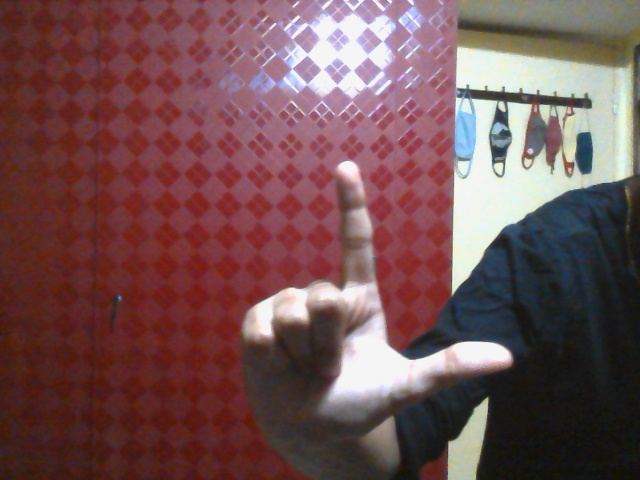L: (240, 164, 513, 413)
